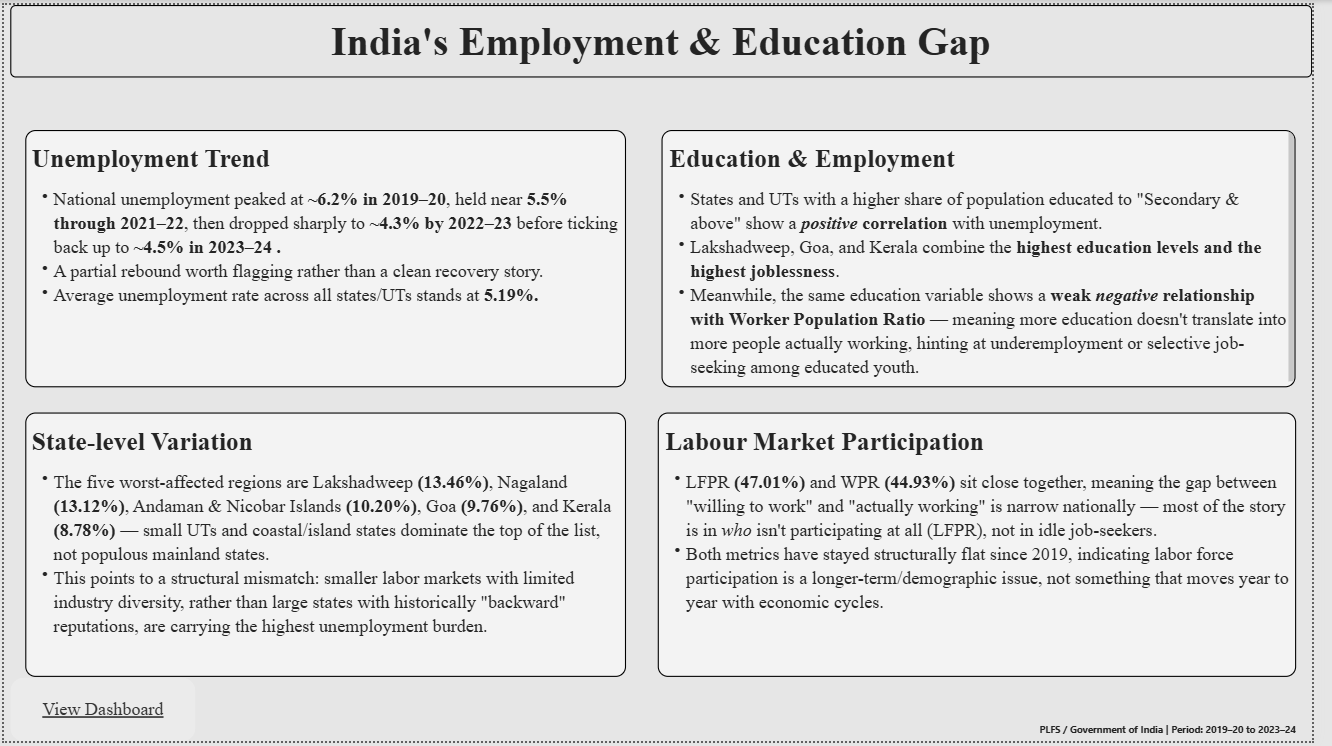

This screenshot's page, from the dashboard's own definition file:
{"tool":"powerbi","page":{"name":"Page 4","canvas":[1920,1080],"ordinal":3},"visuals":[{"type":"textbox","box":[10,0,1910,106],"z":0},{"type":"textbox","box":[30.6,183.7,881.6,377.6],"z":1000},{"type":"textbox","box":[30.6,598,881.6,387.8],"z":2000},{"type":"textbox","box":[965.3,183.7,930.6,377.6],"z":3000},{"type":"textbox","box":[959.2,598,936.7,387.8],"z":4000},{"type":"actionButton","box":[10,986,272,94],"z":5000},{"type":"textbox","box":[1268,1034,628,46],"z":6000}]}

Visuals, with their boxes in screenshot pixels (x1, y1, x2, y2), scaled from the page's 1920x1080 canvas onto the 1332x746 screenshot:
textbox: {"x1": 7, "y1": 0, "x2": 1331, "y2": 73}
textbox: {"x1": 21, "y1": 127, "x2": 633, "y2": 388}
textbox: {"x1": 21, "y1": 413, "x2": 633, "y2": 681}
textbox: {"x1": 670, "y1": 127, "x2": 1315, "y2": 388}
textbox: {"x1": 665, "y1": 413, "x2": 1315, "y2": 681}
actionButton: {"x1": 7, "y1": 681, "x2": 196, "y2": 745}
textbox: {"x1": 880, "y1": 714, "x2": 1315, "y2": 745}
